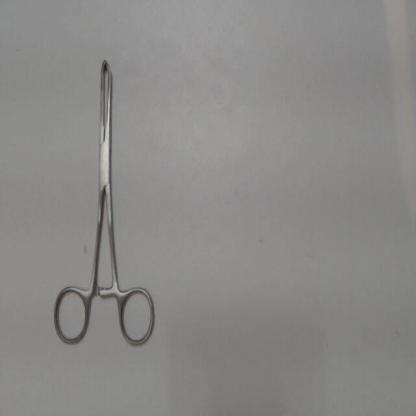Allis Tissue Forceps: (48, 46, 166, 354)
